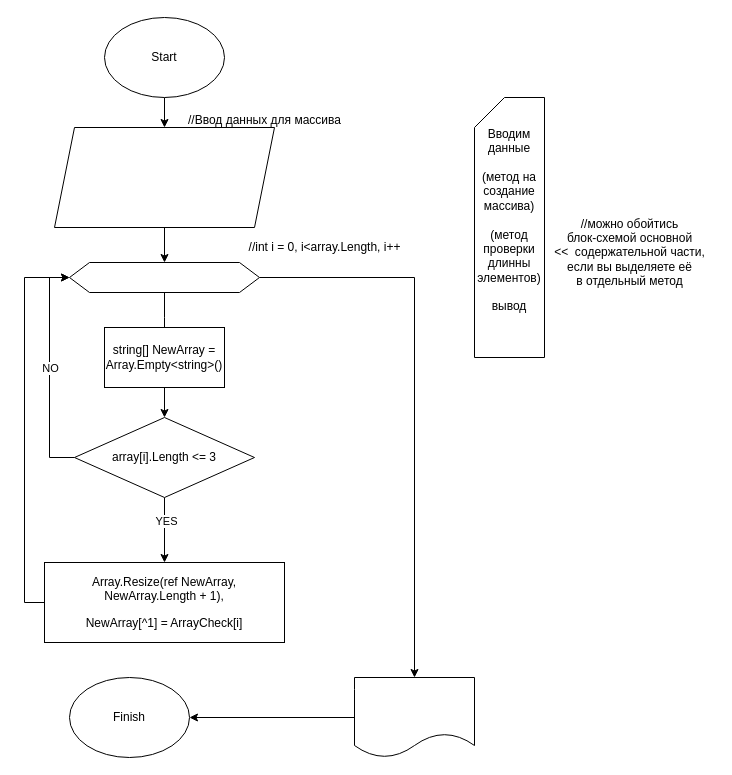
This 732x775 diagram has some shape labels left out. The shapes that lost their labels are listed below. From the top down, each one's centre as x and y in pixels, then its label:
point 164,177: NumberOfElementsInArray, string[] array
point 164,277: i = 0, array.Length - 1, 1
point 414,717: NewArray
